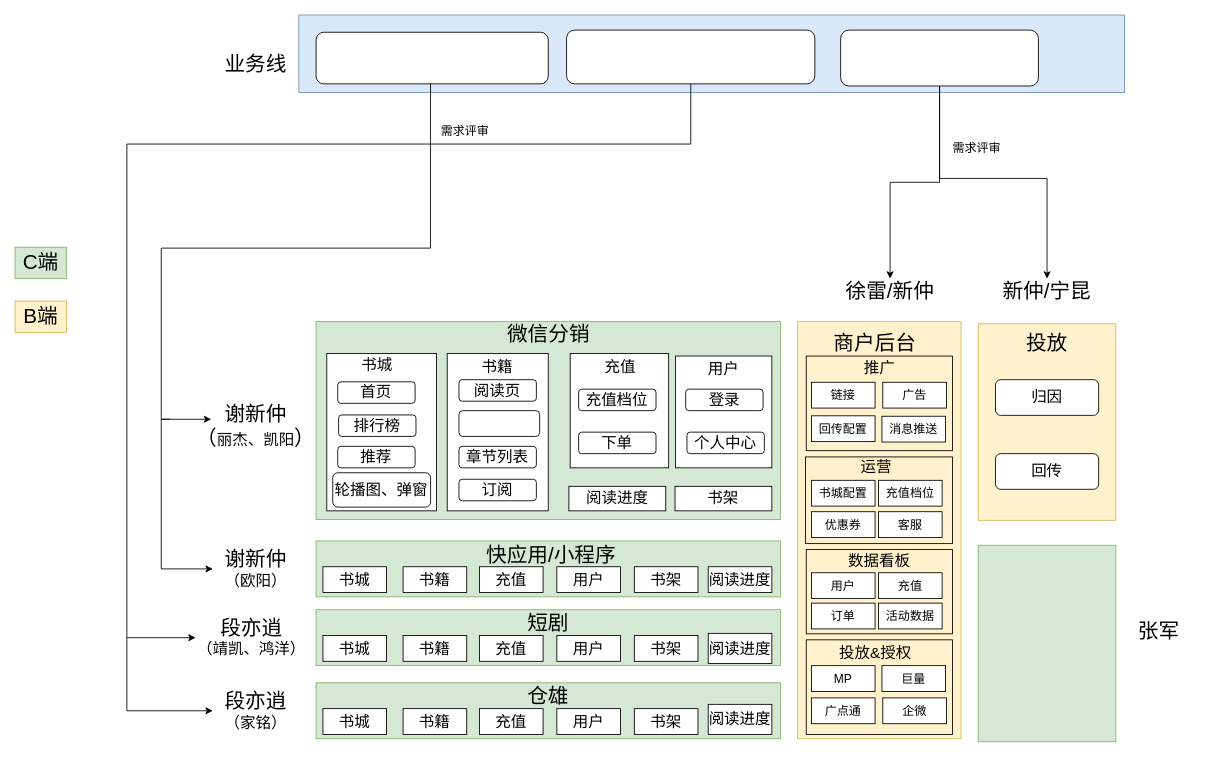
The diagram is 1217 pixels wide and 757 high, and some of its shapes have lost their labels. Each missing label, with the centre of its shape:
"书、章信息" belongs at pixel 499 423.
"商户" belongs at pixel 939 57.
"微信（公众号、小程序）" belongs at pixel 431 57.
"活动" belongs at pixel 1046 643.
"移动App（快应用、仓雄）" belongs at pixel 690 56.
